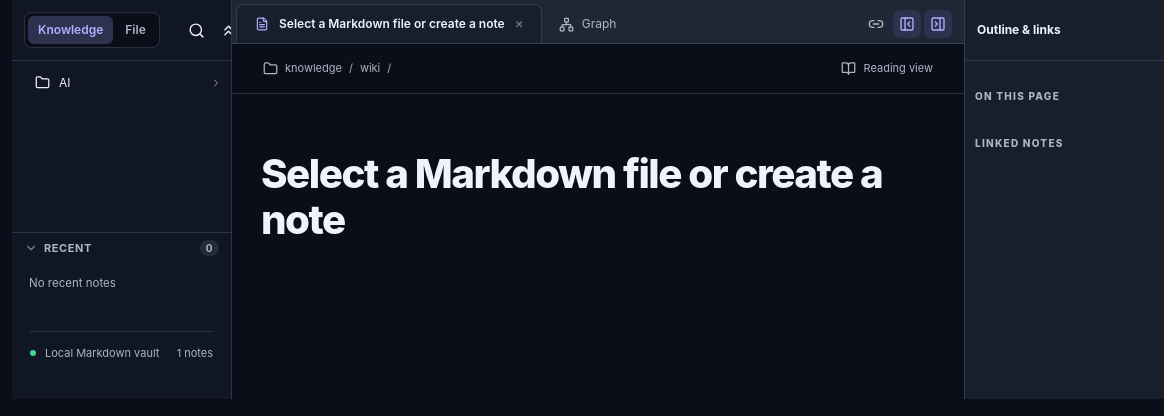
Test: hides file and folder creation actions in the Knowledge tab and shows them only in the File tab
Click the tab "File" at {"x": 136, "y": 30}, box [115,16,156,44]
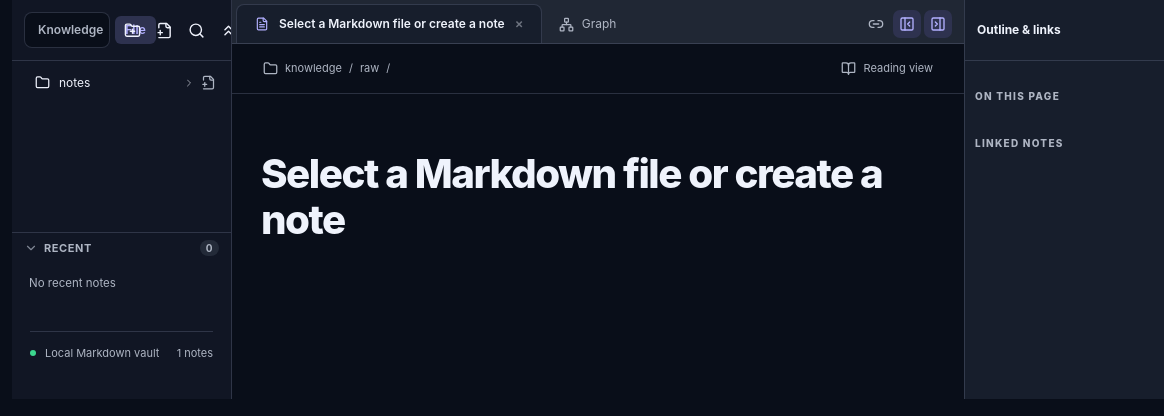
Expected: the button named "Add folder" is shown, [118,16,146,44]
Expected: the button named "Add file" is shown, [150,16,178,44]
Expected: the button named "Create note in notes" is shown, [195,69,222,96]
